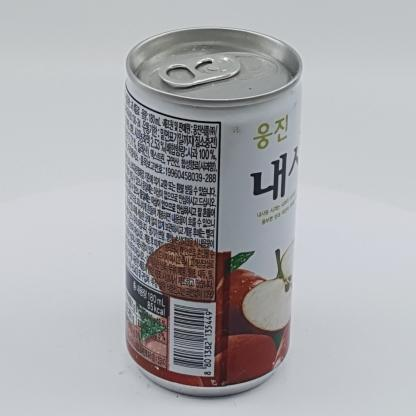-------180ML: (124, 27, 303, 397)
